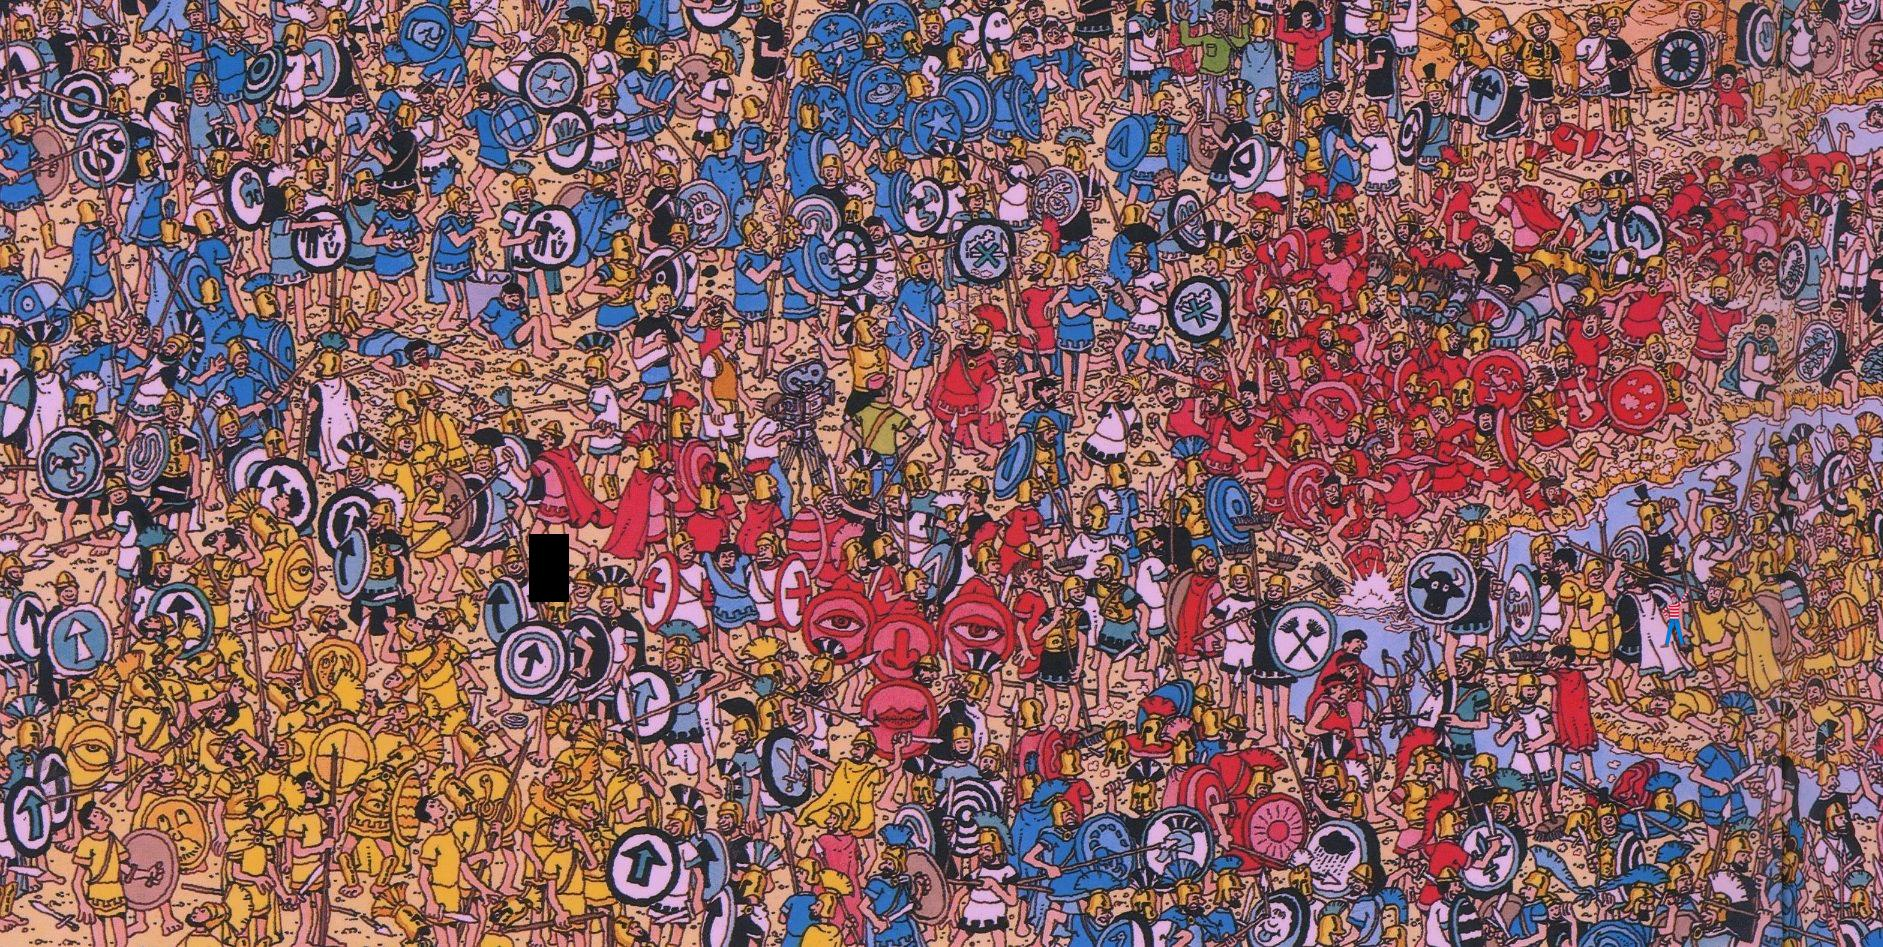waldos: (1655, 583, 1695, 652)
